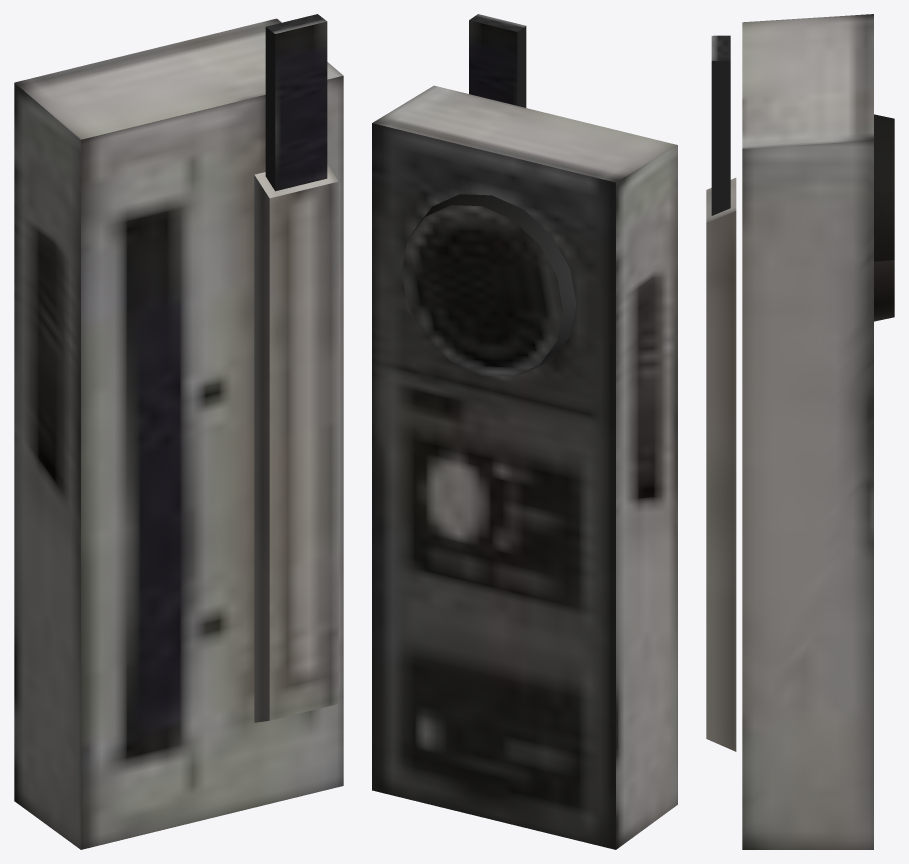
Rendered from Walkie.fbx.
3 renders of one model, left to right at view 1: azimuth 30°, elevation 25°; view 2: azimuth 150°, elevation 25°; view 3: azimuth 270°, elevation 25°, orthographic. The views are drawn at different scales.
Parts seen in each view (by area): view 1: Cylinder; view 2: Cylinder; view 3: Cylinder.
Boxes of the visible parts, x1,y1,x2,y2 form: Cylinder: (14, 14, 343, 849); Cylinder: (372, 14, 677, 849); Cylinder: (706, 14, 894, 849).
Size of the model in its own units: 0.7218 by 2.06 by 0.4546.
1 material, 1 textured.
